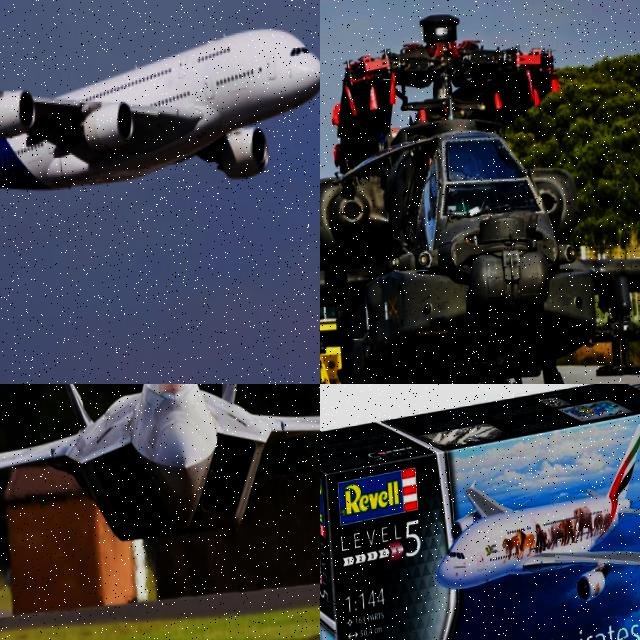A380: (0, 0, 320, 219), (419, 419, 640, 607)
Apache: (320, 24, 640, 384)
F22: (0, 384, 320, 550)
